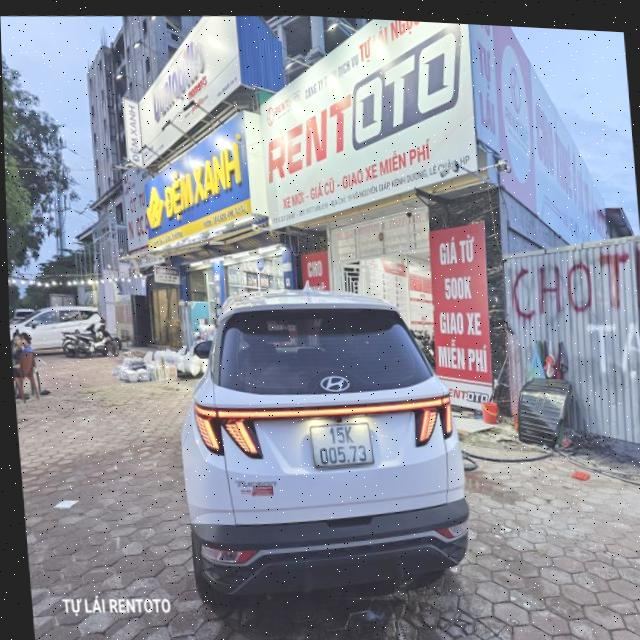car: (162, 262, 481, 625), (9, 296, 109, 359)
plate: (300, 413, 381, 474)
